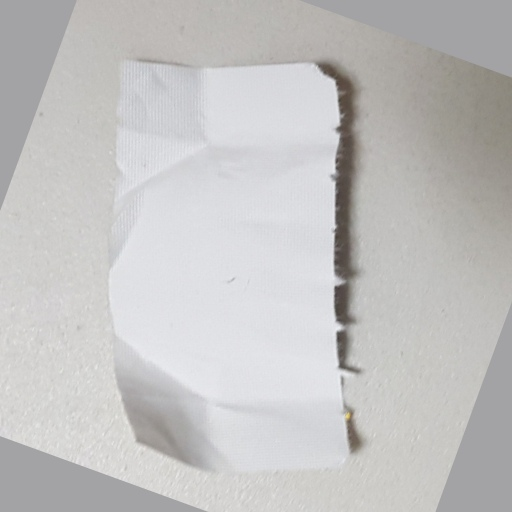Paper_3: (93, 42, 378, 488)
